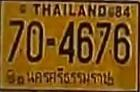0: (26, 20, 43, 61)
4: (58, 20, 73, 62)
6: (113, 22, 129, 63), (76, 21, 92, 62)
7: (7, 19, 23, 61), (95, 21, 110, 63)
NST: (25, 67, 112, 87)
